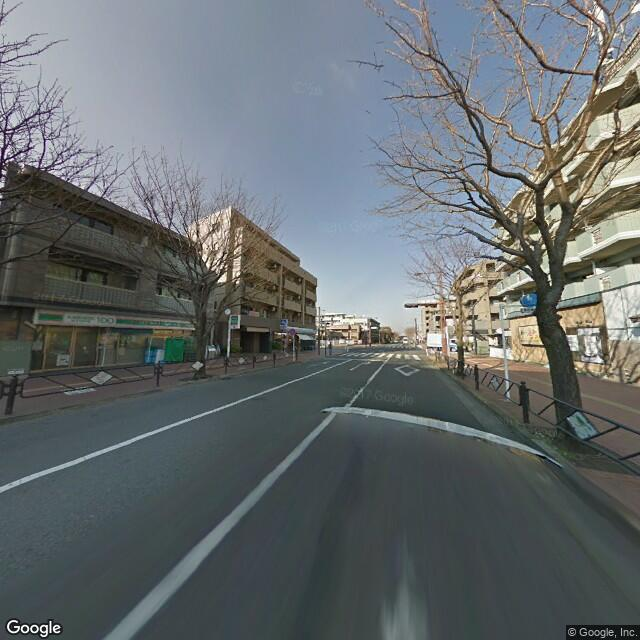lawson: (36, 302, 195, 338)
